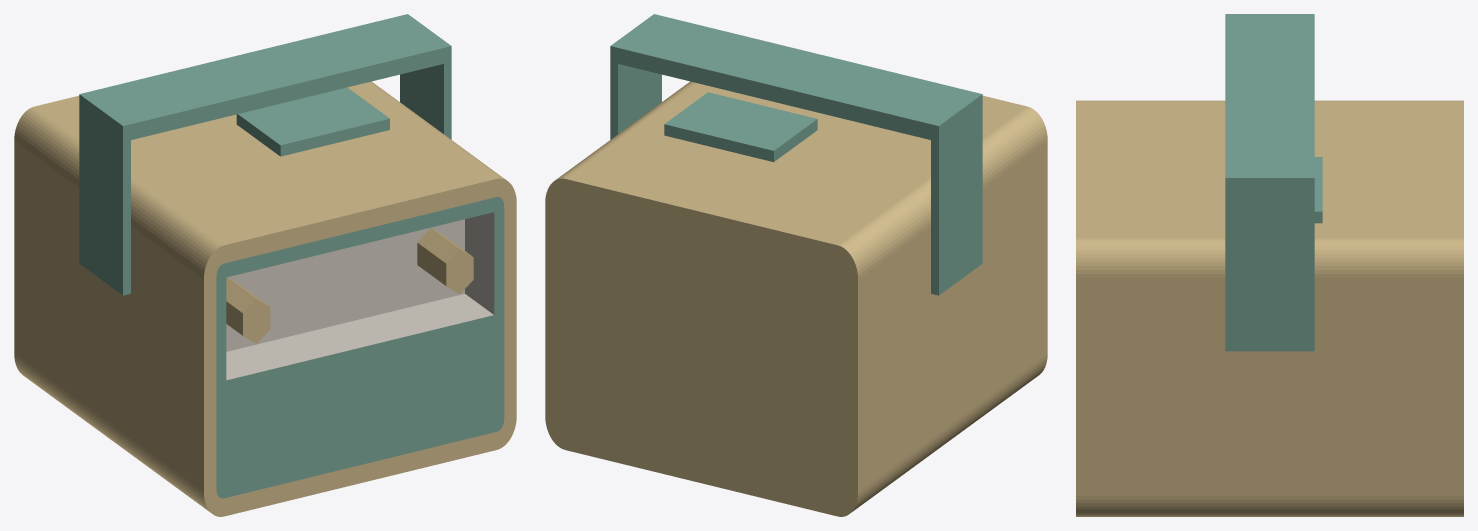
File: radio.glb
The picture shows the model from 3 angles, left to right: view 1: azimuth 30°, elevation 25°; view 2: azimuth 150°, elevation 25°; view 3: azimuth 270°, elevation 25°; orthographic projection. The views are drawn at different scales.
Bounding box in the file's own units: 1 × 1 × 1.
